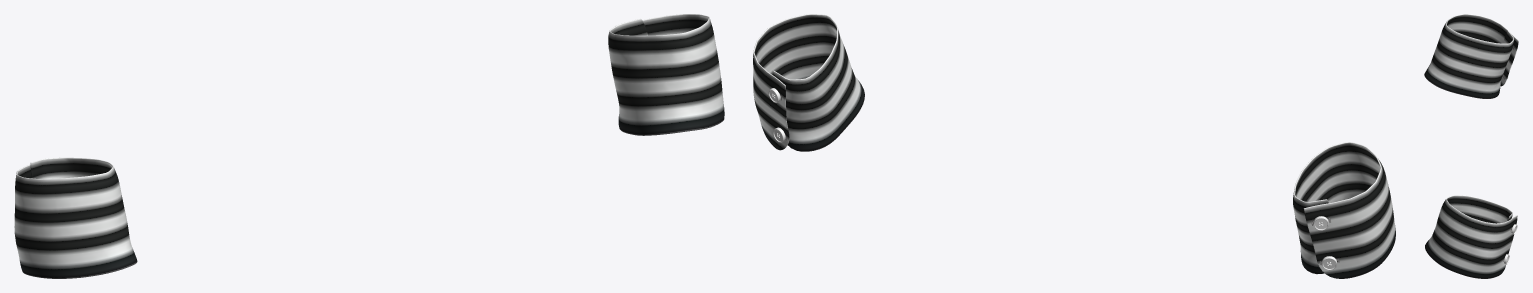
The model's file is 2_Button_Rounded.glb.
3 renders of one model, left to right at view 1: azimuth 30°, elevation 25°; view 2: azimuth 150°, elevation 25°; view 3: azimuth 270°, elevation 25°, orthographic. The views are drawn at different scales.
Visible parts, largest first — view 1: Pattern_2052443_Node, Pattern_2052444_Node; view 2: Pattern_2052444_Node, Pattern_2052443_Node; view 3: Pattern_2052443_Node, Pattern_2052444_Node.
Part boxes in pixels (bbox=[...]): Pattern_2052443_Node: bbox=[14, 157, 137, 278]; Pattern_2052444_Node: bbox=[608, 14, 724, 135]; Pattern_2052444_Node: bbox=[753, 14, 864, 151]; Pattern_2052443_Node: bbox=[1293, 142, 1395, 278]; Pattern_2052443_Node: bbox=[1424, 14, 1518, 98]; Pattern_2052444_Node: bbox=[1425, 195, 1517, 278].
Size of the model in its own units: 60.16 by 9.99 by 11.68.
14 materials, 6 textured.
